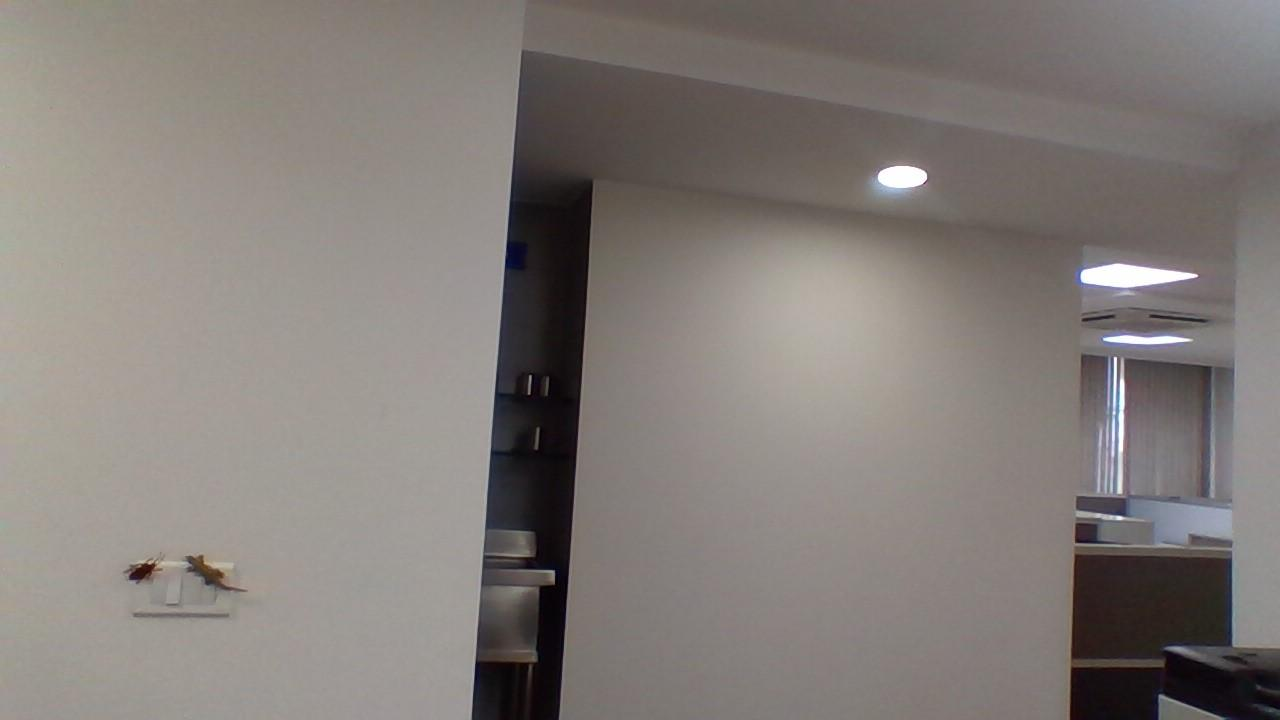cockroach: (117, 548, 177, 593)
lizard: (185, 542, 249, 608)
